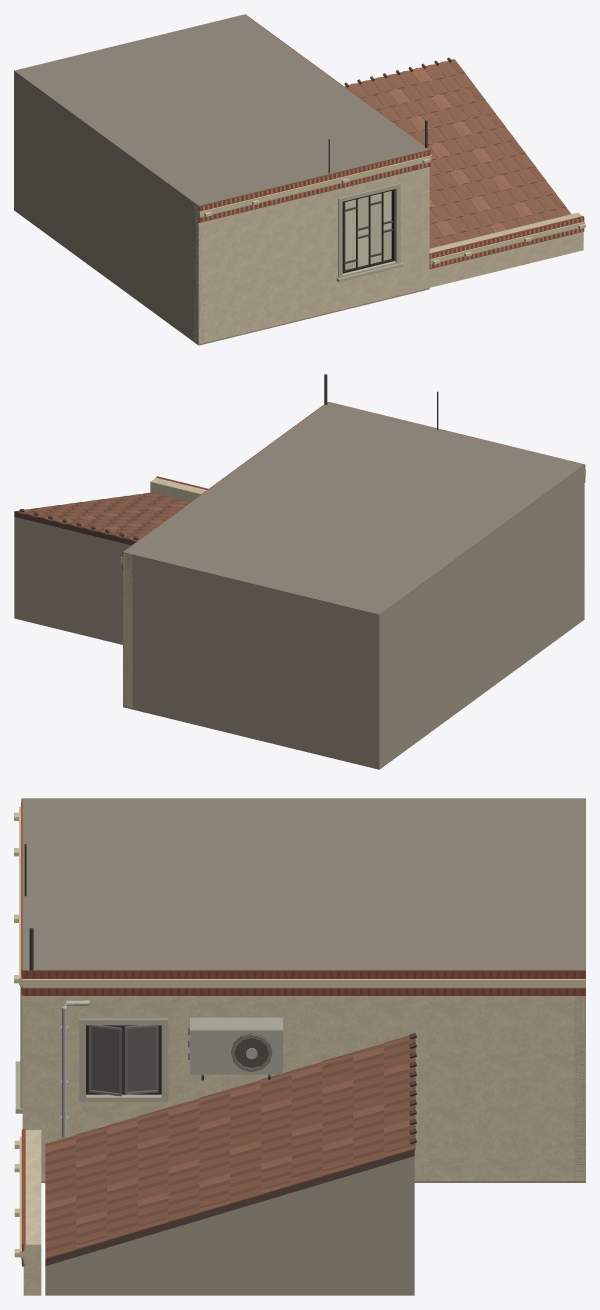
File: changning-yiding-village-roof-pavilion-lod.glb
3 renders of one model, top to bottom at view 1: azimuth 30°, elevation 25°; view 2: azimuth 150°, elevation 25°; view 3: azimuth 270°, elevation 25°, orthographic. The views are drawn at different scales.
Parts seen in each view (by area): view 1: 忆定村江苏路495弄住宅屋顶方间与双道红砖檐带; view 2: 忆定村江苏路495弄住宅屋顶方间与双道红砖檐带; view 3: 忆定村江苏路495弄住宅屋顶方间与双道红砖檐带.
Part boxes in pixels (x1,y1,x2,y2): 忆定村江苏路495弄住宅屋顶方间与双道红砖檐带: [14, 14, 585, 345]; 忆定村江苏路495弄住宅屋顶方间与双道红砖檐带: [14, 374, 585, 769]; 忆定村江苏路495弄住宅屋顶方间与双道红砖檐带: [14, 798, 585, 1295].
Bounding box in the file's own units: 8.44 × 3.64 × 7.12.
23 materials, 1 textured.
